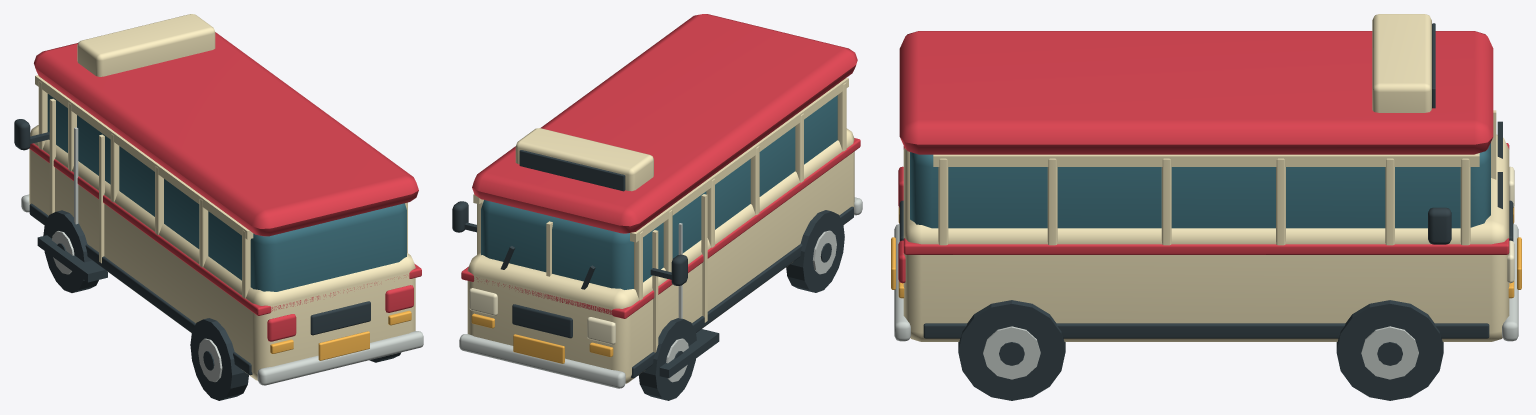
Rendered from minibus.glb.
3 renders of one model, left to right at view 1: azimuth 30°, elevation 25°; view 2: azimuth 150°, elevation 25°; view 3: azimuth 270°, elevation 25°, orthographic. The views are drawn at different scales.
Parts seen in each view (by area): view 1: Roof, Body, WindowCabin, RouteBox, Bumper, Tire, WaistStripe, Cantrail, SideSill, Tire.001, Grille, DoorStep (+15 smaller); view 2: Roof, Body, WindowCabin, RouteBox, WaistStripe, Bumper.001, Tire, Cantrail, Tire.001, SideSill, RouteDisplay, Grille.001 (+16 smaller); view 3: Roof, Body, WindowCabin, Cantrail.001, WaistStripe, Tire.003, Tire.002, SideSill.001, RouteBox, Cylinder.004, Cylinder.006, WindowPillar.006 (+8 smaller).
Part boxes in pixels (x1=…): Roof: x1=34, y1=32, x2=418, y2=236; Body: x1=29, y1=125, x2=415, y2=380; WindowCabin: x1=47, y1=94, x2=406, y2=291; RouteBox: x1=77, y1=14, x2=215, y2=76; Bumper: x1=257, y1=331, x2=423, y2=385; Tire: x1=190, y1=318, x2=248, y2=400; WaistStripe: x1=29, y1=143, x2=421, y2=315; Cantrail: x1=35, y1=75, x2=253, y2=239; SideSill: x1=29, y1=203, x2=252, y2=375; Tire.001: x1=43, y1=210, x2=98, y2=292; Grille: x1=310, y1=301, x2=370, y2=335; DoorStep: x1=37, y1=235, x2=107, y2=282; Roof: x1=472, y1=14, x2=857, y2=233; Body: x1=467, y1=128, x2=854, y2=383; WindowCabin: x1=481, y1=95, x2=837, y2=289; RouteBox: x1=515, y1=128, x2=653, y2=191; WaistStripe: x1=461, y1=138, x2=860, y2=318; Bumper.001: x1=459, y1=334, x2=625, y2=388; Tire: x1=786, y1=210, x2=844, y2=292; Cantrail: x1=630, y1=78, x2=848, y2=242; Tire.001: x1=638, y1=318, x2=696, y2=400; SideSill: x1=631, y1=206, x2=853, y2=378; RouteDisplay: x1=519, y1=150, x2=625, y2=191; Grille.001: x1=512, y1=304, x2=572, y2=338; Roof: x1=899, y1=31, x2=1493, y2=154; Body: x1=903, y1=134, x2=1509, y2=341; WindowCabin: x1=910, y1=142, x2=1490, y2=228; Cantrail.001: x1=933, y1=153, x2=1479, y2=166; WaistStripe: x1=903, y1=143, x2=1509, y2=254; Tire.003: x1=1336, y1=300, x2=1443, y2=400; Tire.002: x1=958, y1=300, x2=1065, y2=400; SideSill.001: x1=923, y1=323, x2=1489, y2=338; RouteBox: x1=1372, y1=14, x2=1431, y2=112; Cylinder.004: x1=983, y1=326, x2=1040, y2=379; Cylinder.006: x1=1361, y1=326, x2=1418, y2=379; WindowPillar.006: x1=938, y1=158, x2=948, y2=245.
Bounding box in the file's own units: 3.43 × 3.31 × 6.35.
